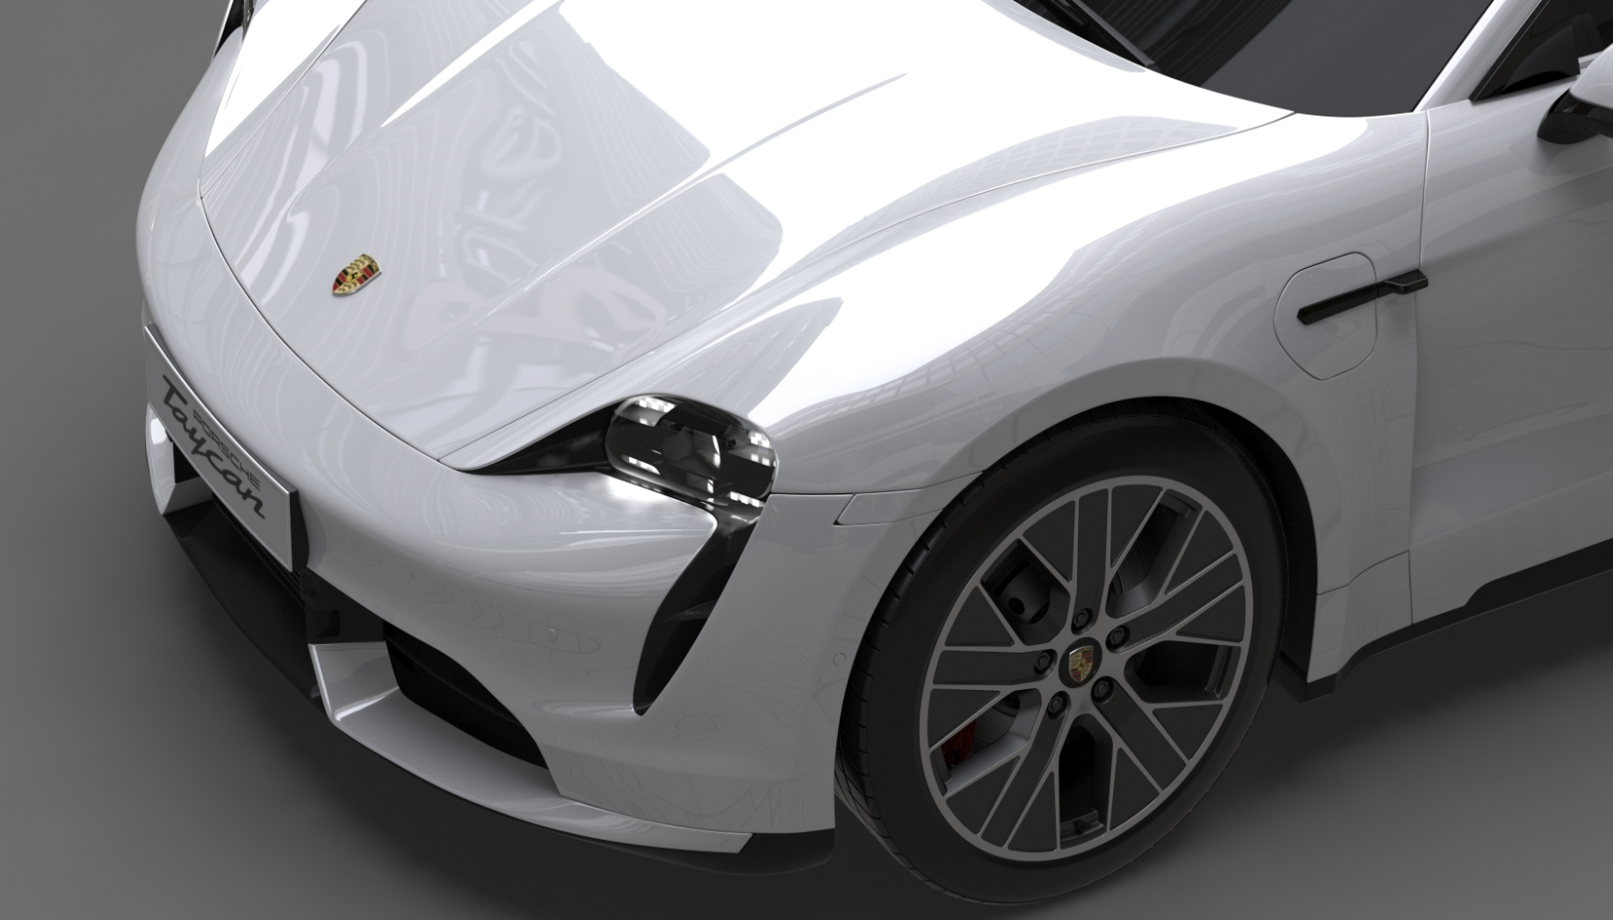hatch: (1261, 241, 1400, 396)
